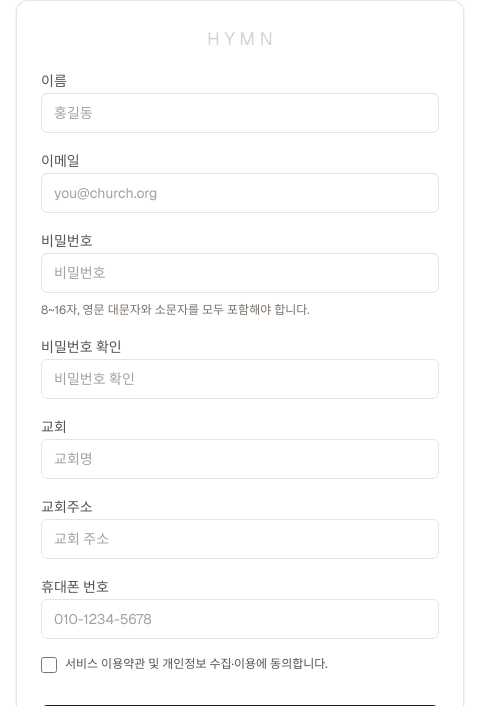
Test: 회원가입 이메일 자동 조회 › 이미 쓰이는 주소면 제출 없이 중복 안내를 보여줘야 한다
This screenshot has width=481, height=706.
Type "taken@example.com" into the field labelled "이메일" at (240, 193), box [41,173,439,213]
Wait 1000 ms
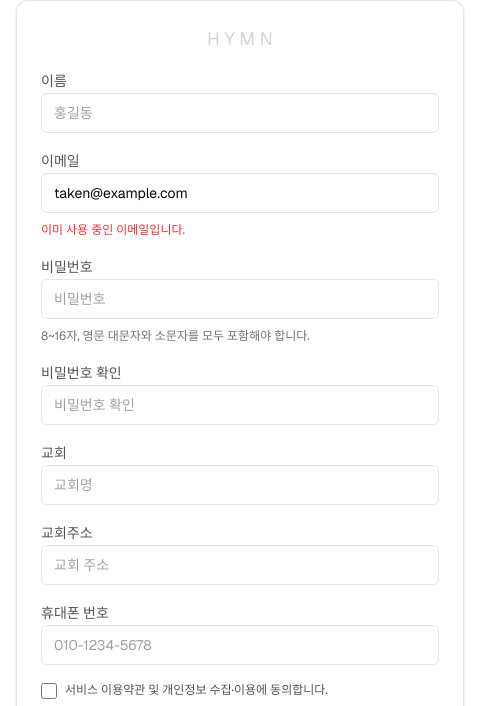
Check: the text "이미 사용 중인 이메일입니다." is shown, box [41,222,185,238]
